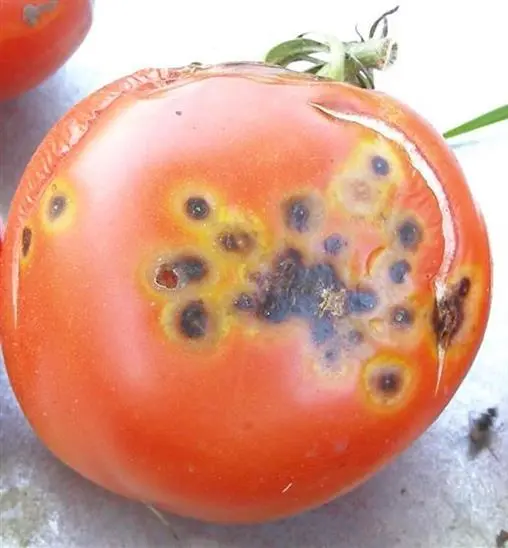rotten tomato: (11, 51, 481, 513)
